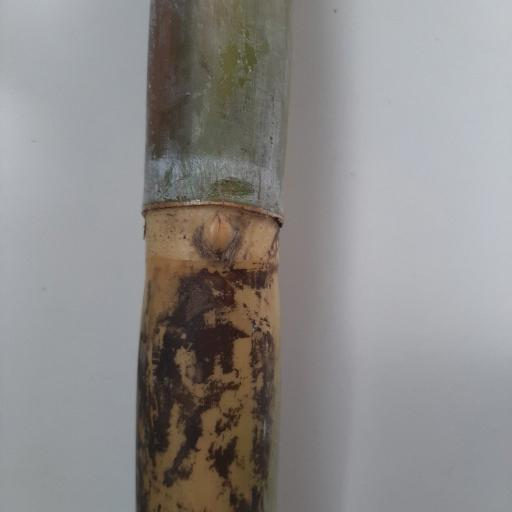Bud: (200, 209, 236, 259)
